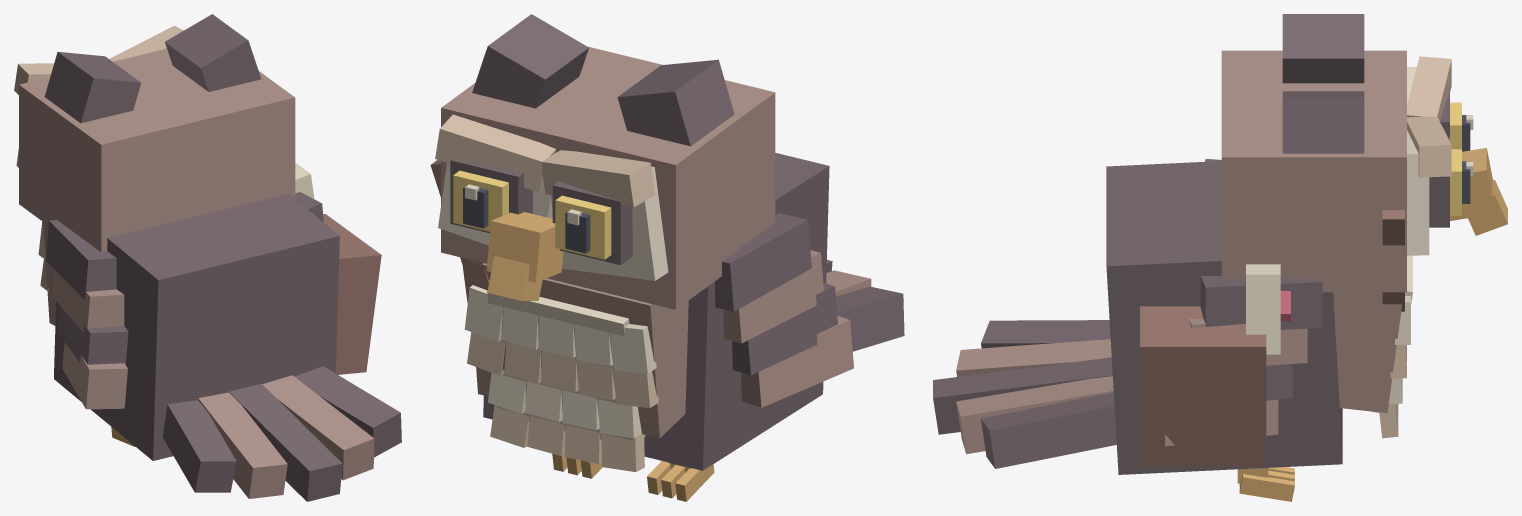
The model's file is owl_body.glb.
3 views of the same model, side by side, from view 1: azimuth 30°, elevation 25°; view 2: azimuth 150°, elevation 25°; view 3: azimuth 270°, elevation 25° (orthographic). The views are drawn at different scales.
Visible parts, largest first — view 1: Moonpost Courier Owl Body; view 2: Moonpost Courier Owl Body; view 3: Moonpost Courier Owl Body.
Part boxes in pixels (bbox=[...]): Moonpost Courier Owl Body: bbox=[14, 14, 401, 501]; Moonpost Courier Owl Body: bbox=[430, 14, 904, 501]; Moonpost Courier Owl Body: bbox=[933, 14, 1507, 501].
Bounding box in the file's own units: 1.82 × 2.25 × 2.82.
